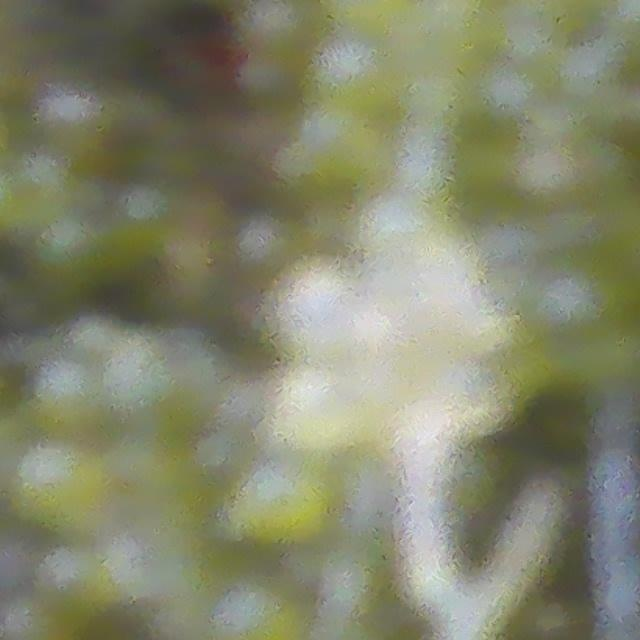SeaGrape: (14, 437, 112, 536), (280, 255, 343, 336), (35, 359, 99, 424)
